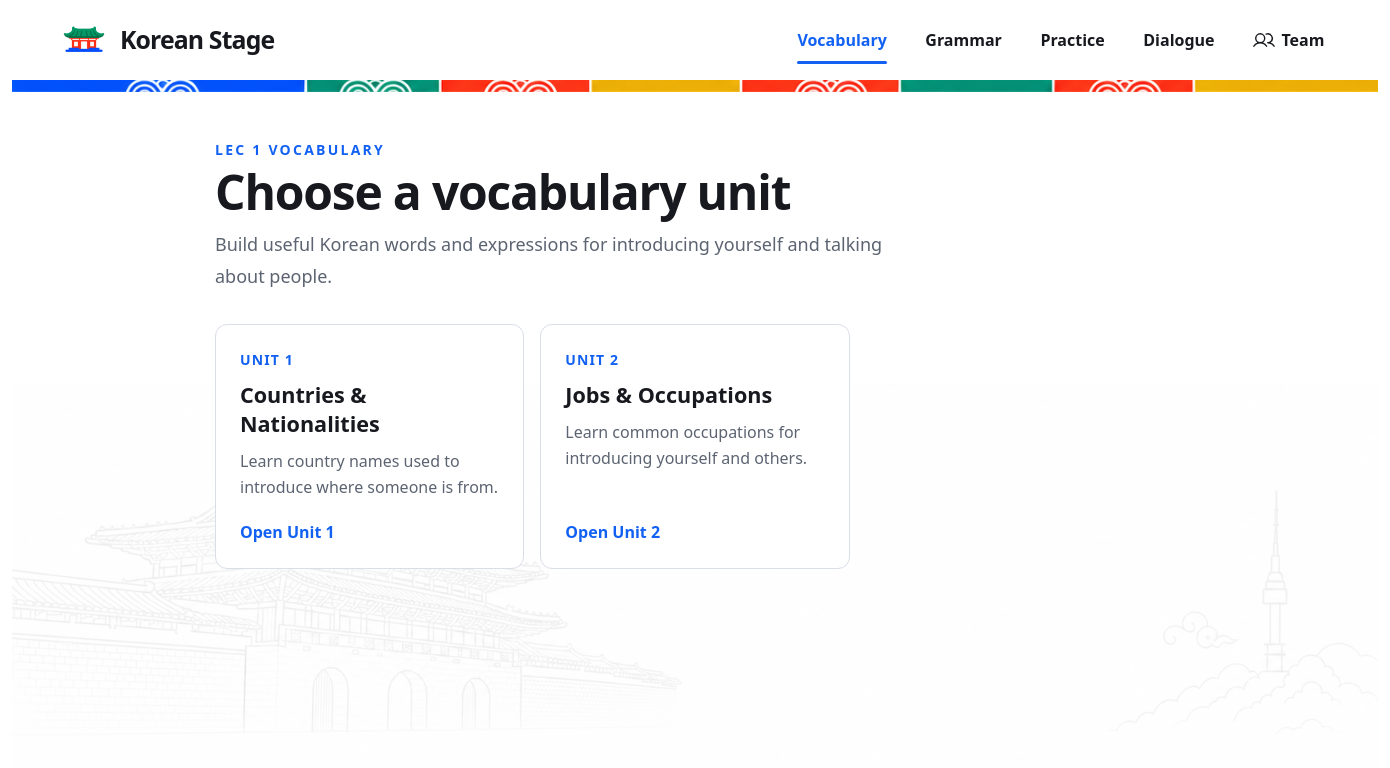
Test: Canonical lesson selection › opens a selected vocabulary unit on its canonical route
The width and height of the screenshot is (1390, 768).
Click the link with aria-label "Open Unit 2: Jobs & Occupations" at coordinates (695, 447), box [540,324,850,569]
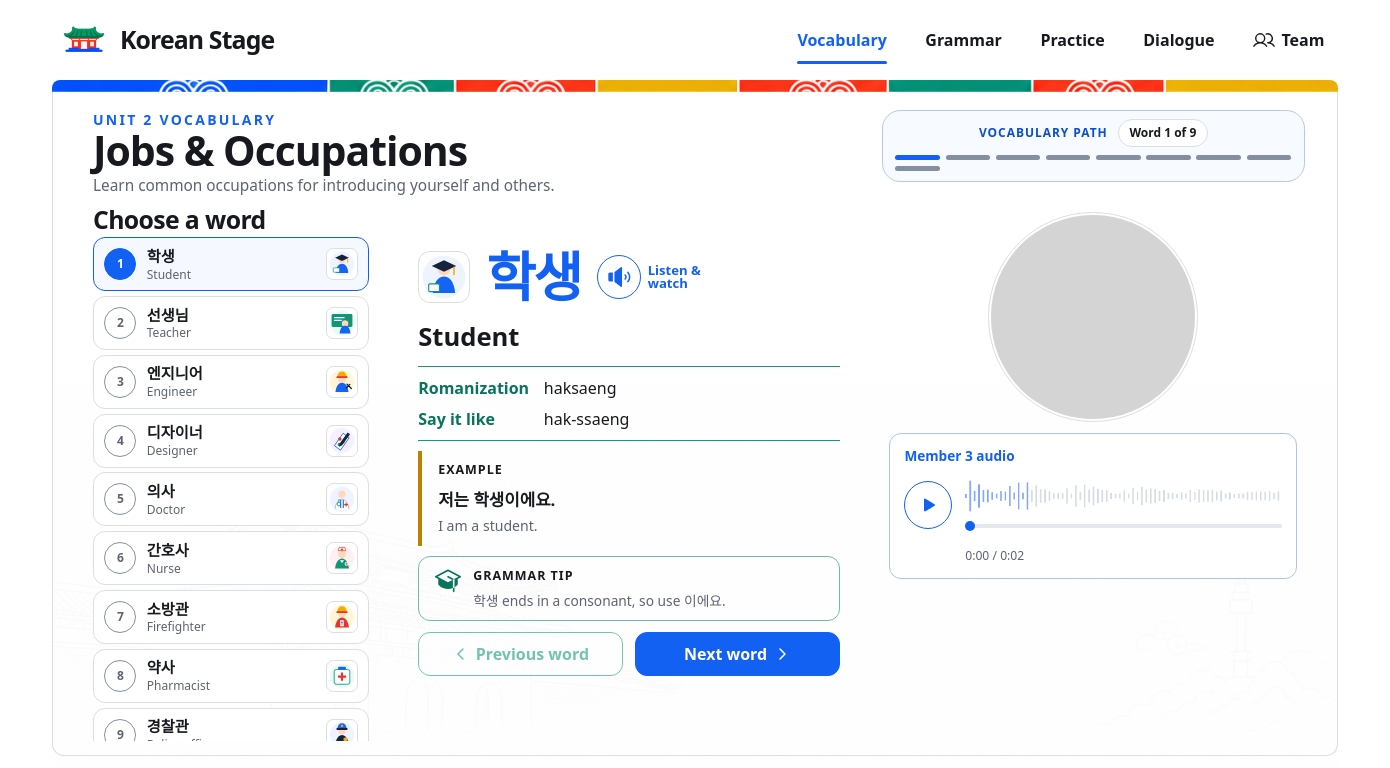
Result: the heading "Jobs & Occupations" is shown at [93,122,467,178]
